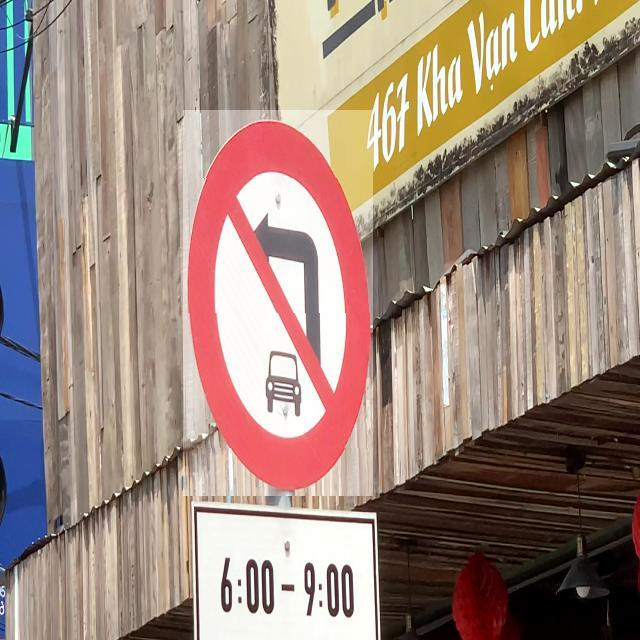P-103c: (183, 110, 373, 496)
